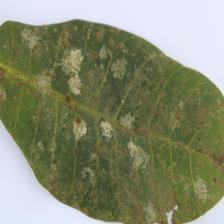red rust: (0, 18, 224, 224)
